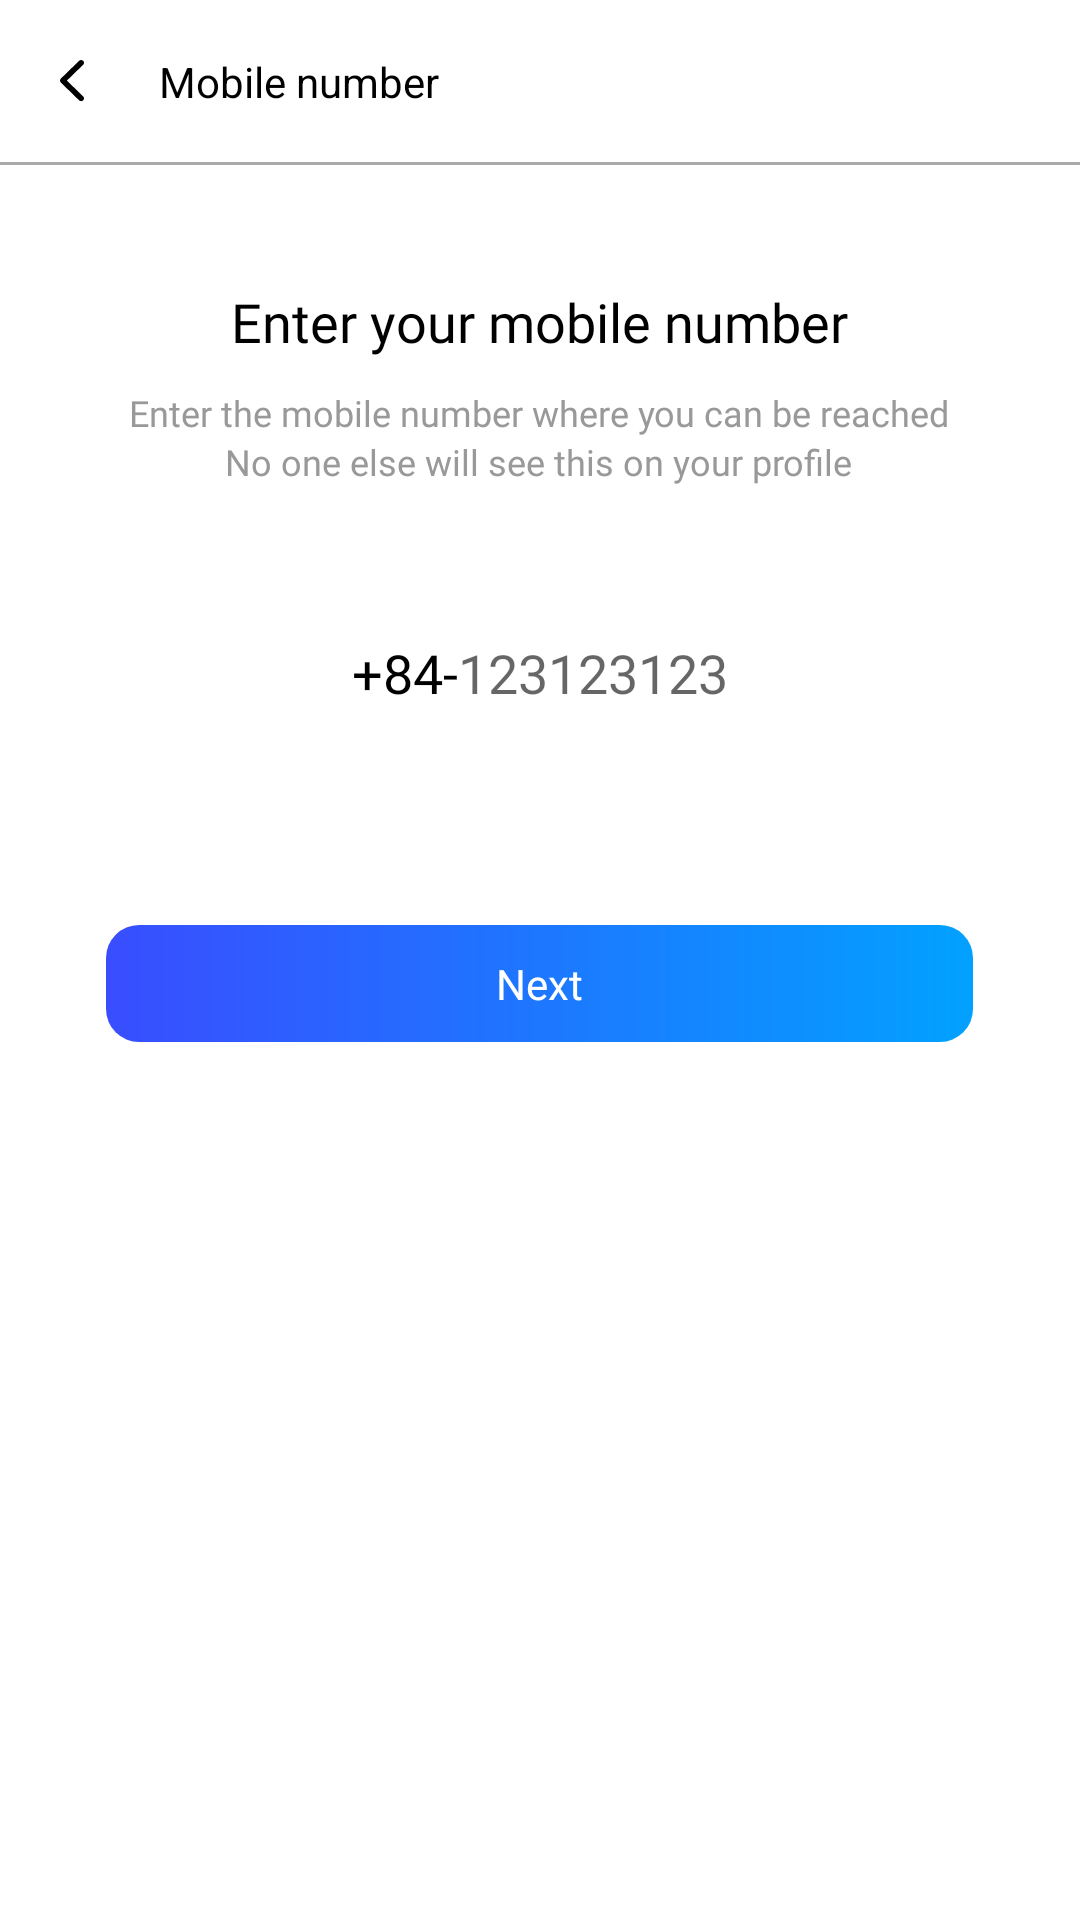

Icon click points for this 1080×1920 phone screenshot, format (x=x, y=y):
back create account: (x=72, y=80)
